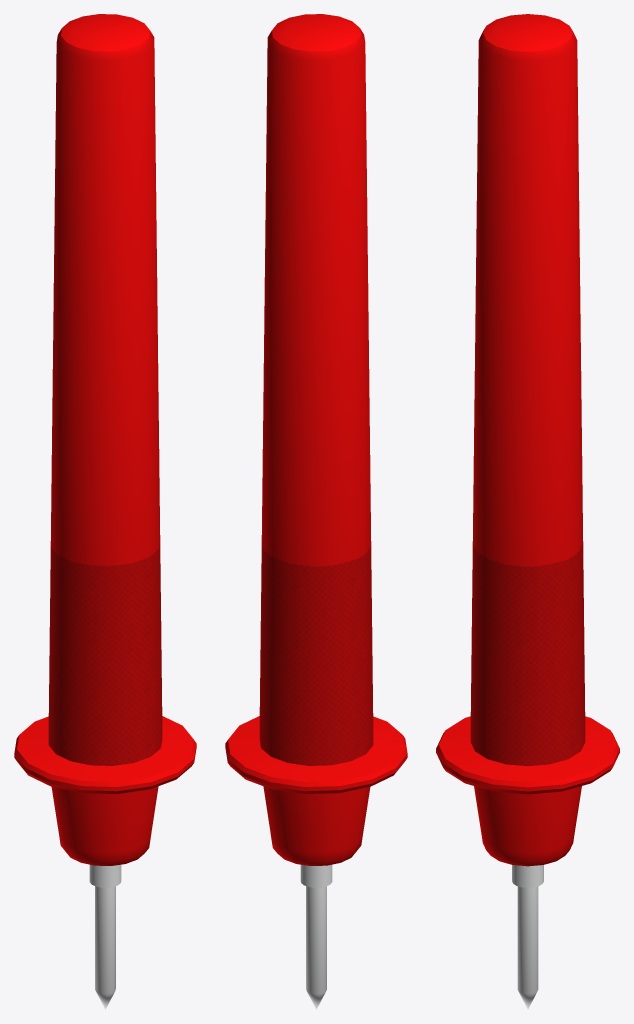
The model's file is Colokan Panjang Merah.fbx.
The picture shows the model from 3 angles, left to right: view 1: azimuth 30°, elevation 25°; view 2: azimuth 150°, elevation 25°; view 3: azimuth 270°, elevation 25°; orthographic projection.
Visible parts, largest first — view 1: Cylinder, Cylinder.001; view 2: Cylinder, Cylinder.001; view 3: Cylinder, Cylinder.001.
Part boxes in pixels (left/top/right/bottom): Cylinder: left=14, top=14, right=196, bottom=865; Cylinder.001: left=89, top=864, right=121, bottom=1009; Cylinder: left=225, top=14, right=407, bottom=865; Cylinder.001: left=300, top=864, right=332, bottom=1009; Cylinder: left=436, top=14, right=619, bottom=866; Cylinder.001: left=512, top=865, right=543, bottom=1009.
Size of the model in its own units: 3.41 by 20.08 by 3.41.
1 material, 1 textured.
